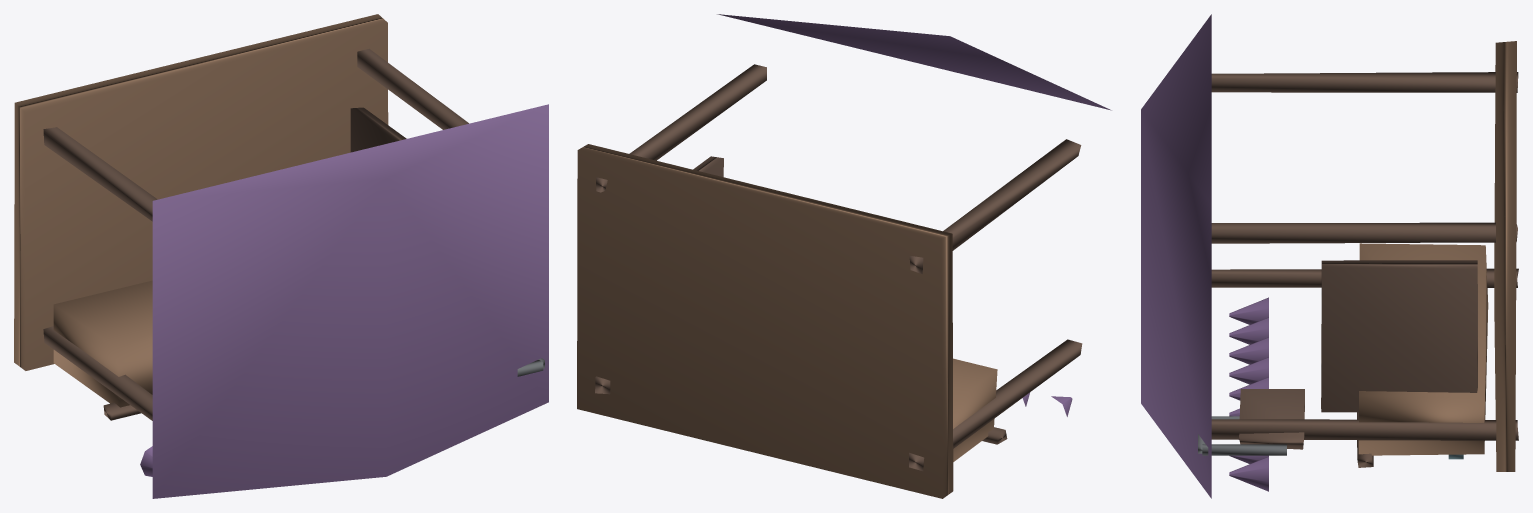
File: accessories_stall_hd.glb
3 views of the same model, side by side, from view 1: azimuth 30°, elevation 25°; view 2: azimuth 150°, elevation 25°; view 3: azimuth 270°, elevation 25° (orthographic).
Bounding box in the file's own units: 4.8 × 3.55 × 4.02.
